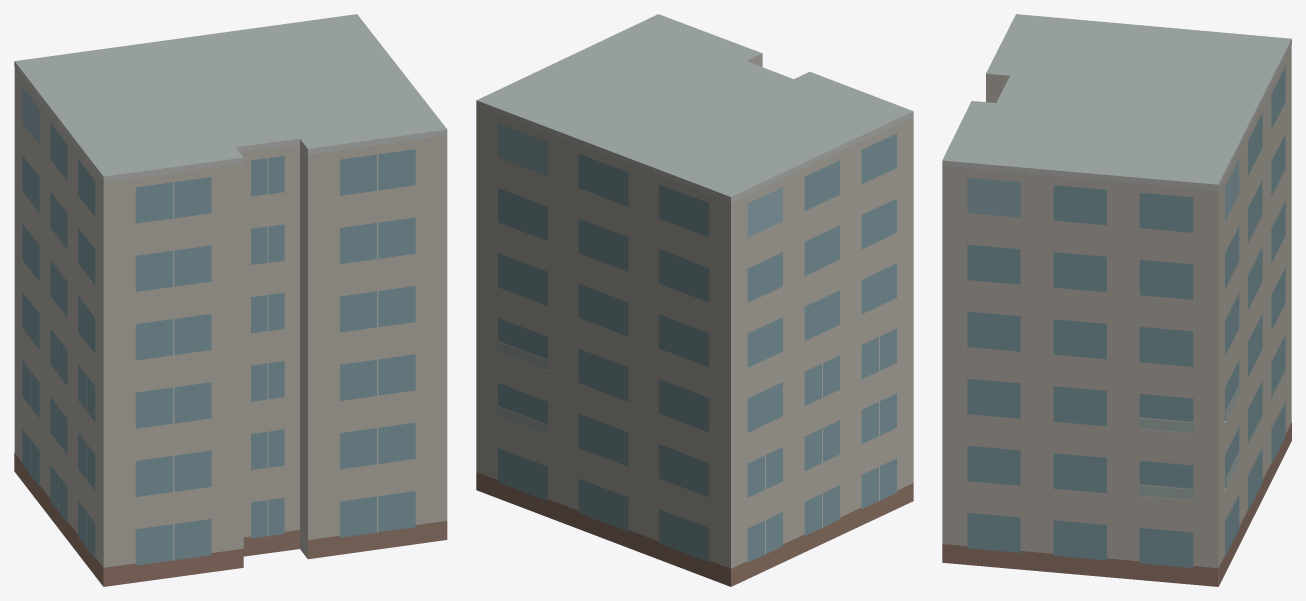
The model's file is survey-upis-32665031.glb.
The picture shows the model from 3 angles, left to right: view 1: azimuth 30°, elevation 25°; view 2: azimuth 150°, elevation 25°; view 3: azimuth 270°, elevation 25°; orthographic projection. The views are drawn at different scales.
Parts seen in each view (by area): view 1: survey-upis-32665031.tmp; view 2: survey-upis-32665031.tmp; view 3: survey-upis-32665031.tmp.
Part boxes in pixels (bbox=[...]): survey-upis-32665031.tmp: bbox=[14, 14, 447, 586]; survey-upis-32665031.tmp: bbox=[476, 14, 913, 586]; survey-upis-32665031.tmp: bbox=[942, 14, 1291, 586].
Size of the model in its own units: 15.76 by 17.3 by 13.64.
